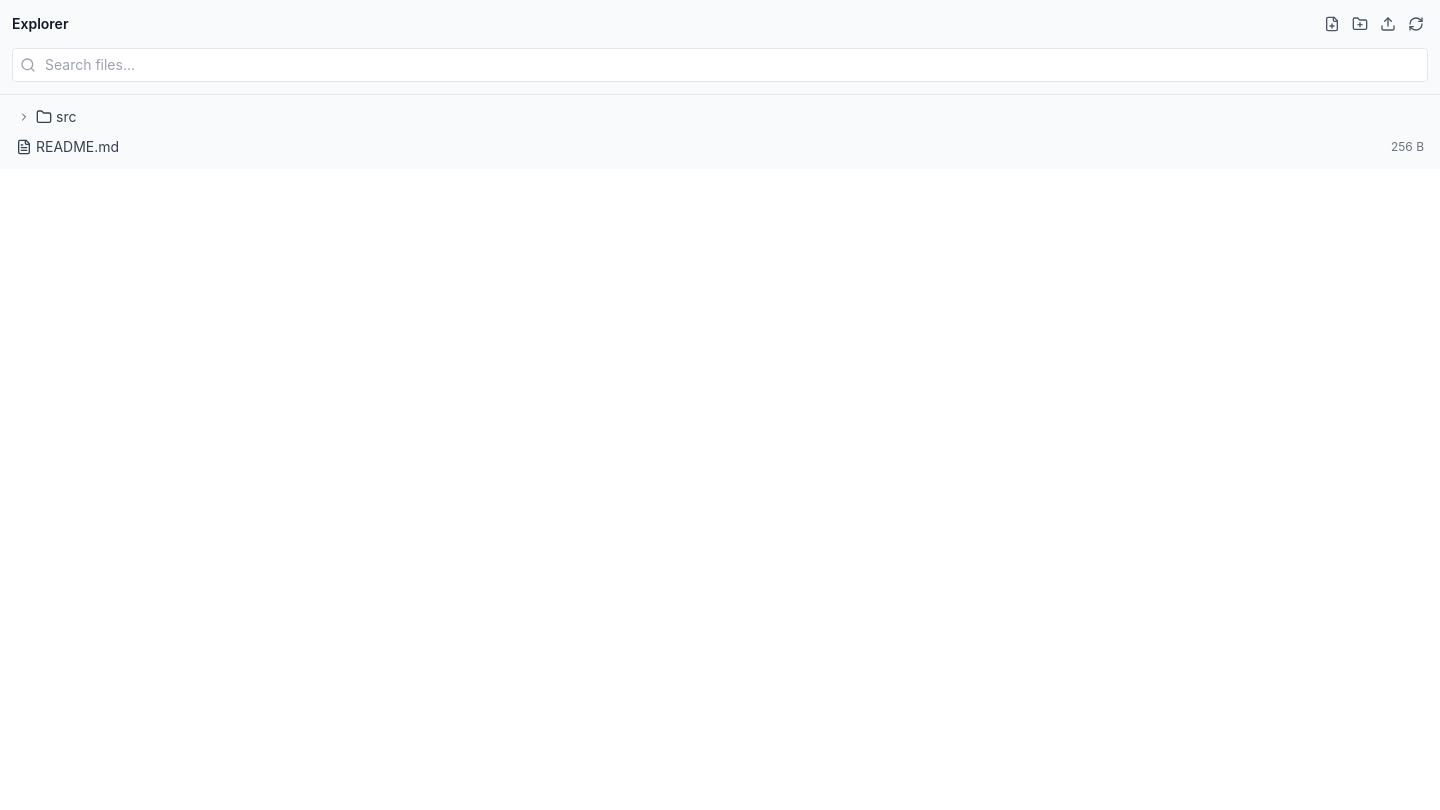
FileExplorer Integration › provides comprehensive file management through header buttons
// Test new file button
Click the button titled "New File". click: (1332, 24)
box: [1320,12,1344,36]
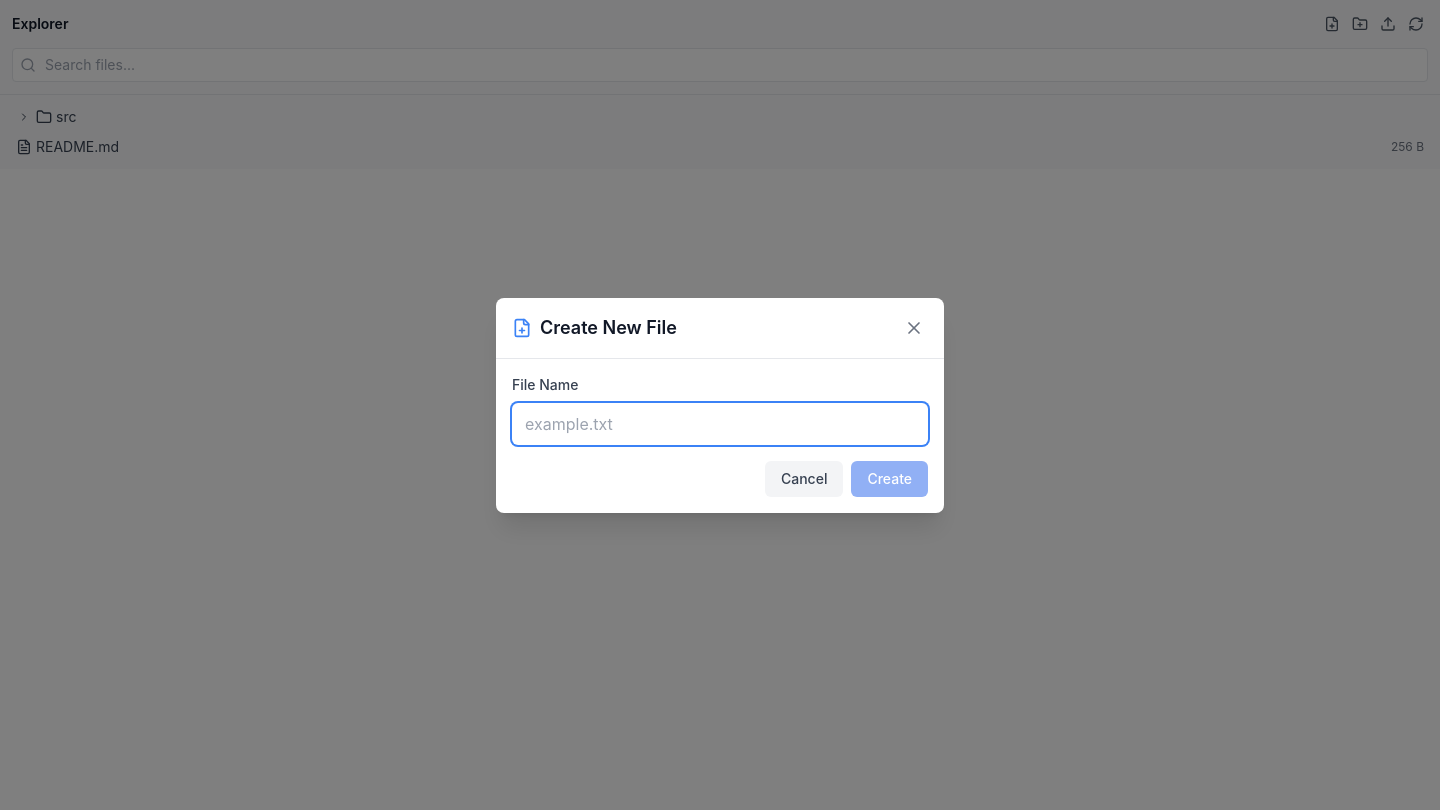
Expected: the heading "Create New File" is shown, [540,314,677,342]
// Cancel the dialog
Click the button "Cancel". click: (804, 478)
box: [765,460,843,496]
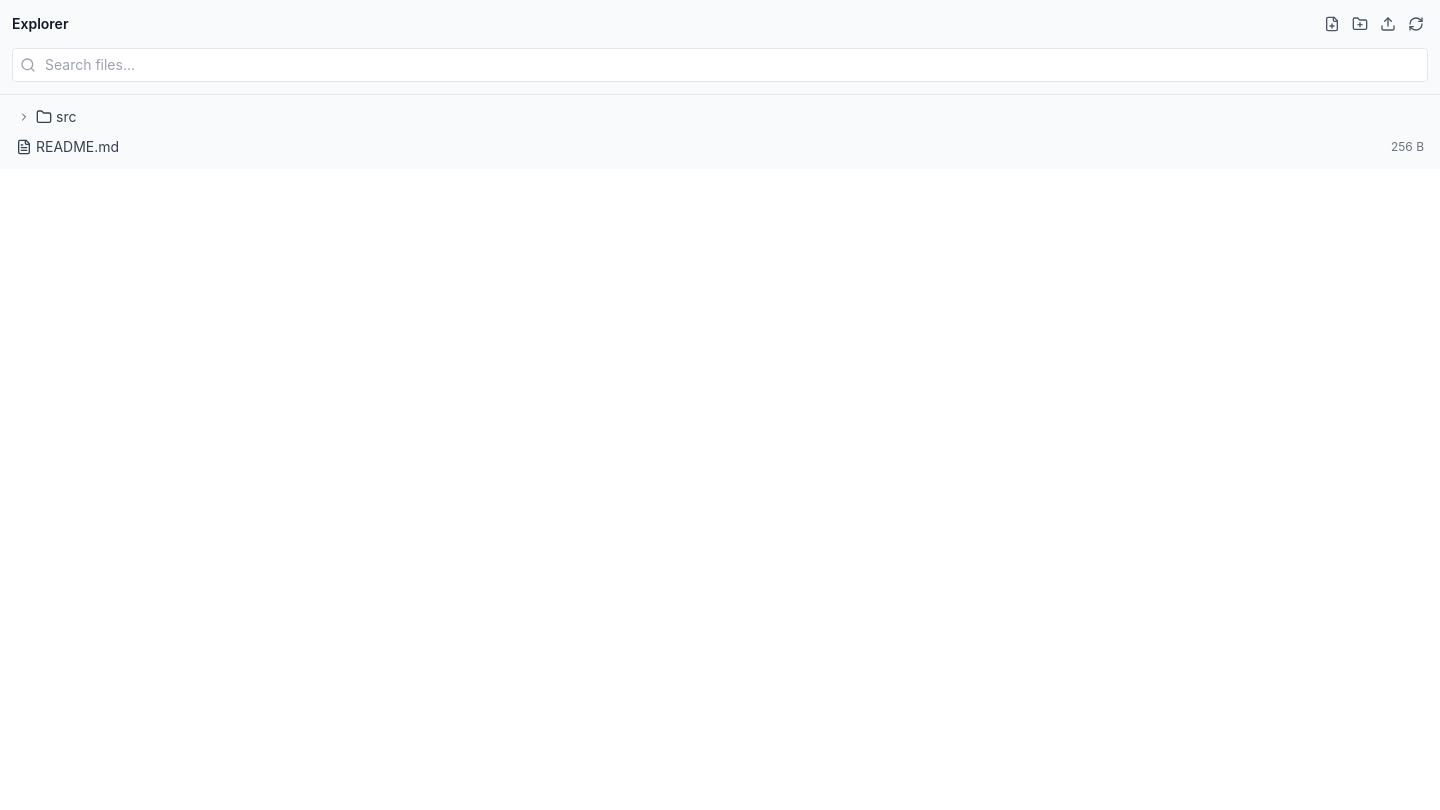
// Test new folder button
Click the button titled "New Folder". click: (1360, 24)
box: [1348,12,1372,36]
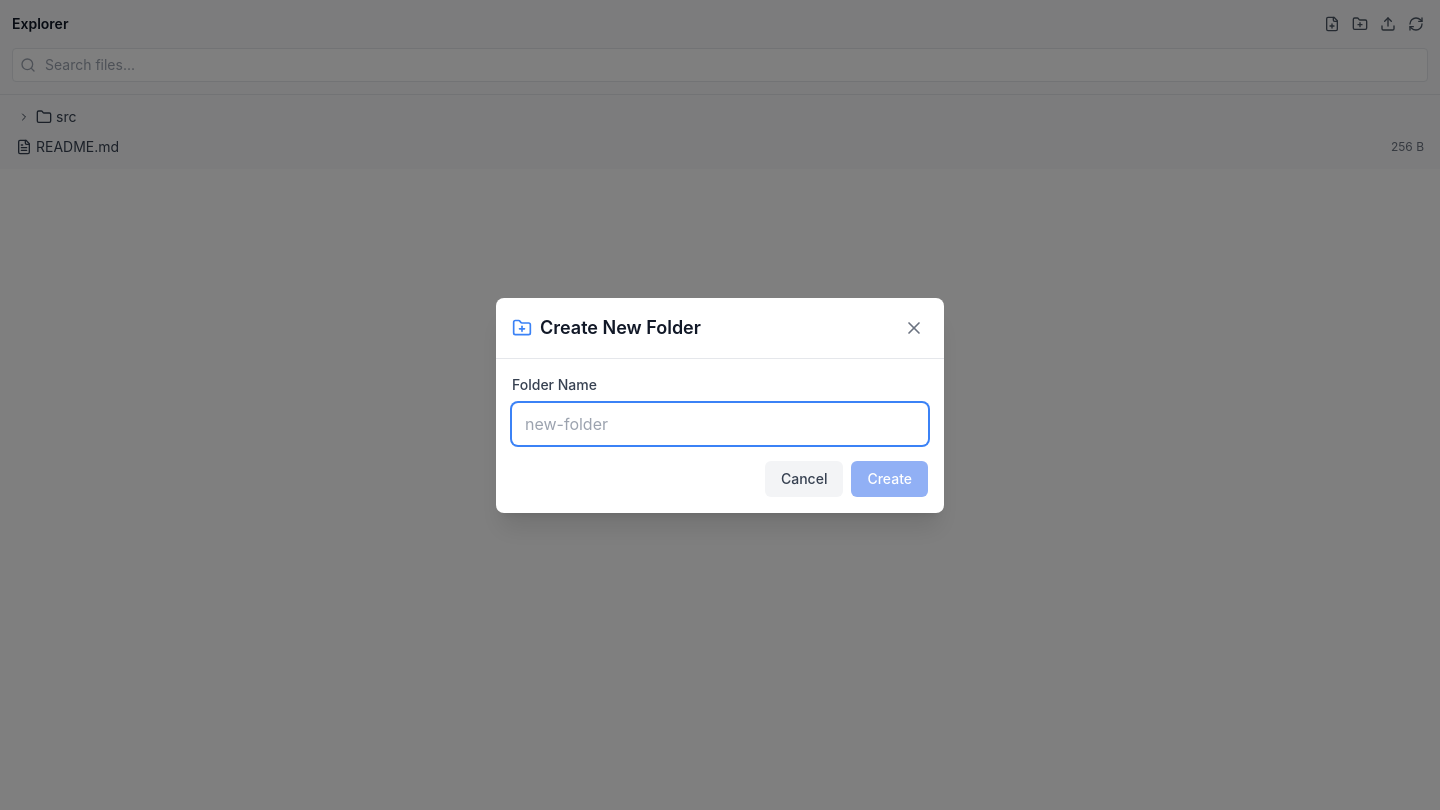
Expected: the heading "Create New Folder" is shown, [540,314,701,342]
